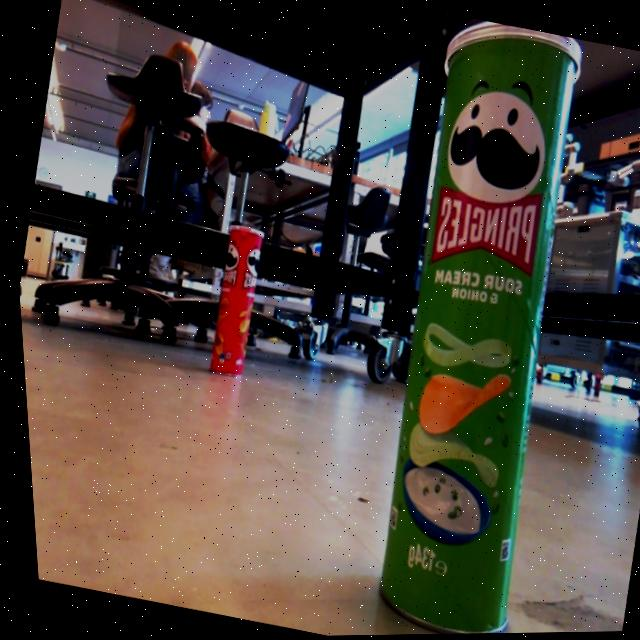greenpringles: (289, 7, 640, 637)
redpringles: (178, 204, 292, 394)
